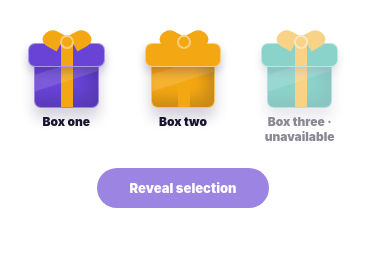
Test case: LuckyBox › selects independently from a controlled winning box
Expected: the number of elements with test id "jackpotkit-lucky-gift" is 3, [28, 43, 105, 129]; [145, 43, 221, 129]; [261, 43, 338, 144]
Click the button labelled "Box one" at (66,82), box [12, 12, 121, 152]
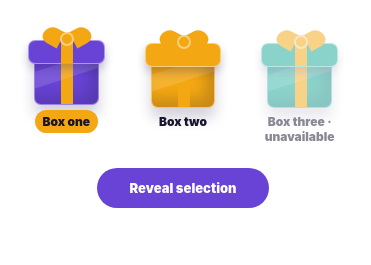
Click the button with aria-label "Reveal Lucky Box" at (183,188), box [97, 168, 268, 208]
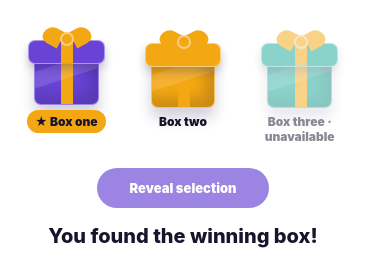
Expected: the element with test id "jackpotkit-lucky-gift-lid-Box one" is shown, [28, 40, 105, 64]
Now the text "You found the winning box!" is shown, box [48, 224, 318, 248]
